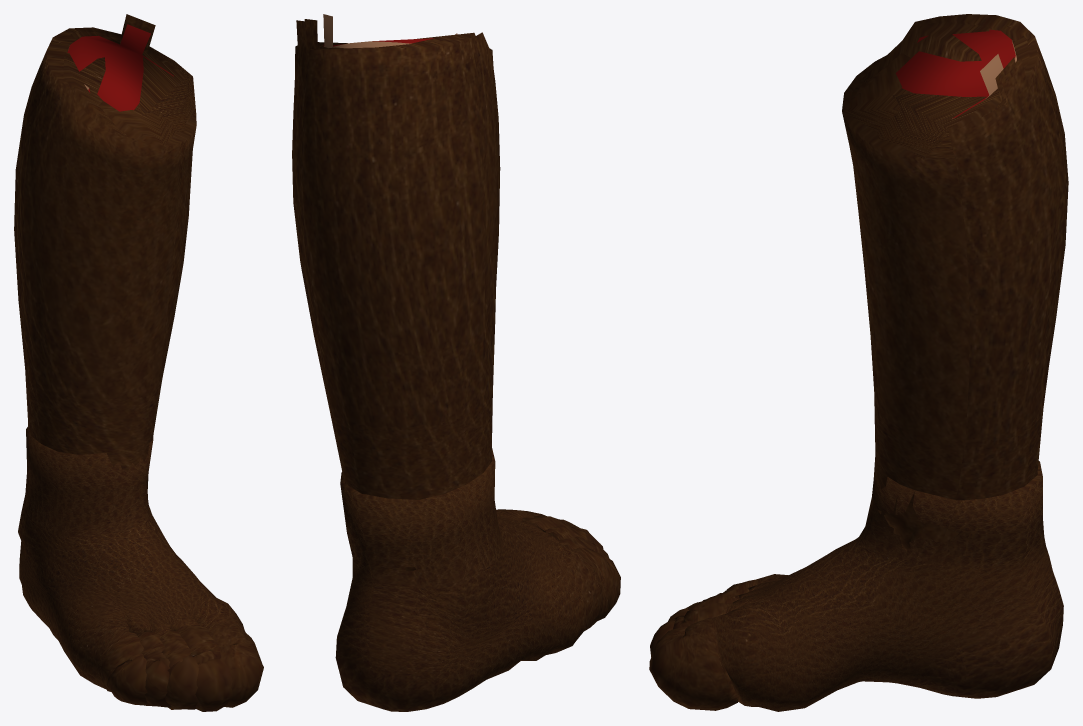
File: SM_Part_M2_leg_r.gltf
3 views of the same model, side by side, from view 1: azimuth 30°, elevation 25°; view 2: azimuth 150°, elevation 25°; view 3: azimuth 270°, elevation 25° (orthographic). The views are drawn at different scales.
Parts seen in each view (by area): view 1: SM_Part_M2_leg_r; view 2: SM_Part_M2_leg_r; view 3: SM_Part_M2_leg_r.
Part boxes in pixels (<box>): SM_Part_M2_leg_r: <box>14,14,263,711</box>; SM_Part_M2_leg_r: <box>292,14,620,711</box>; SM_Part_M2_leg_r: <box>649,14,1068,711</box>.
Size of the model in its own units: 0.1687 by 0.5249 by 0.2975.
4 materials, 2 textured.
